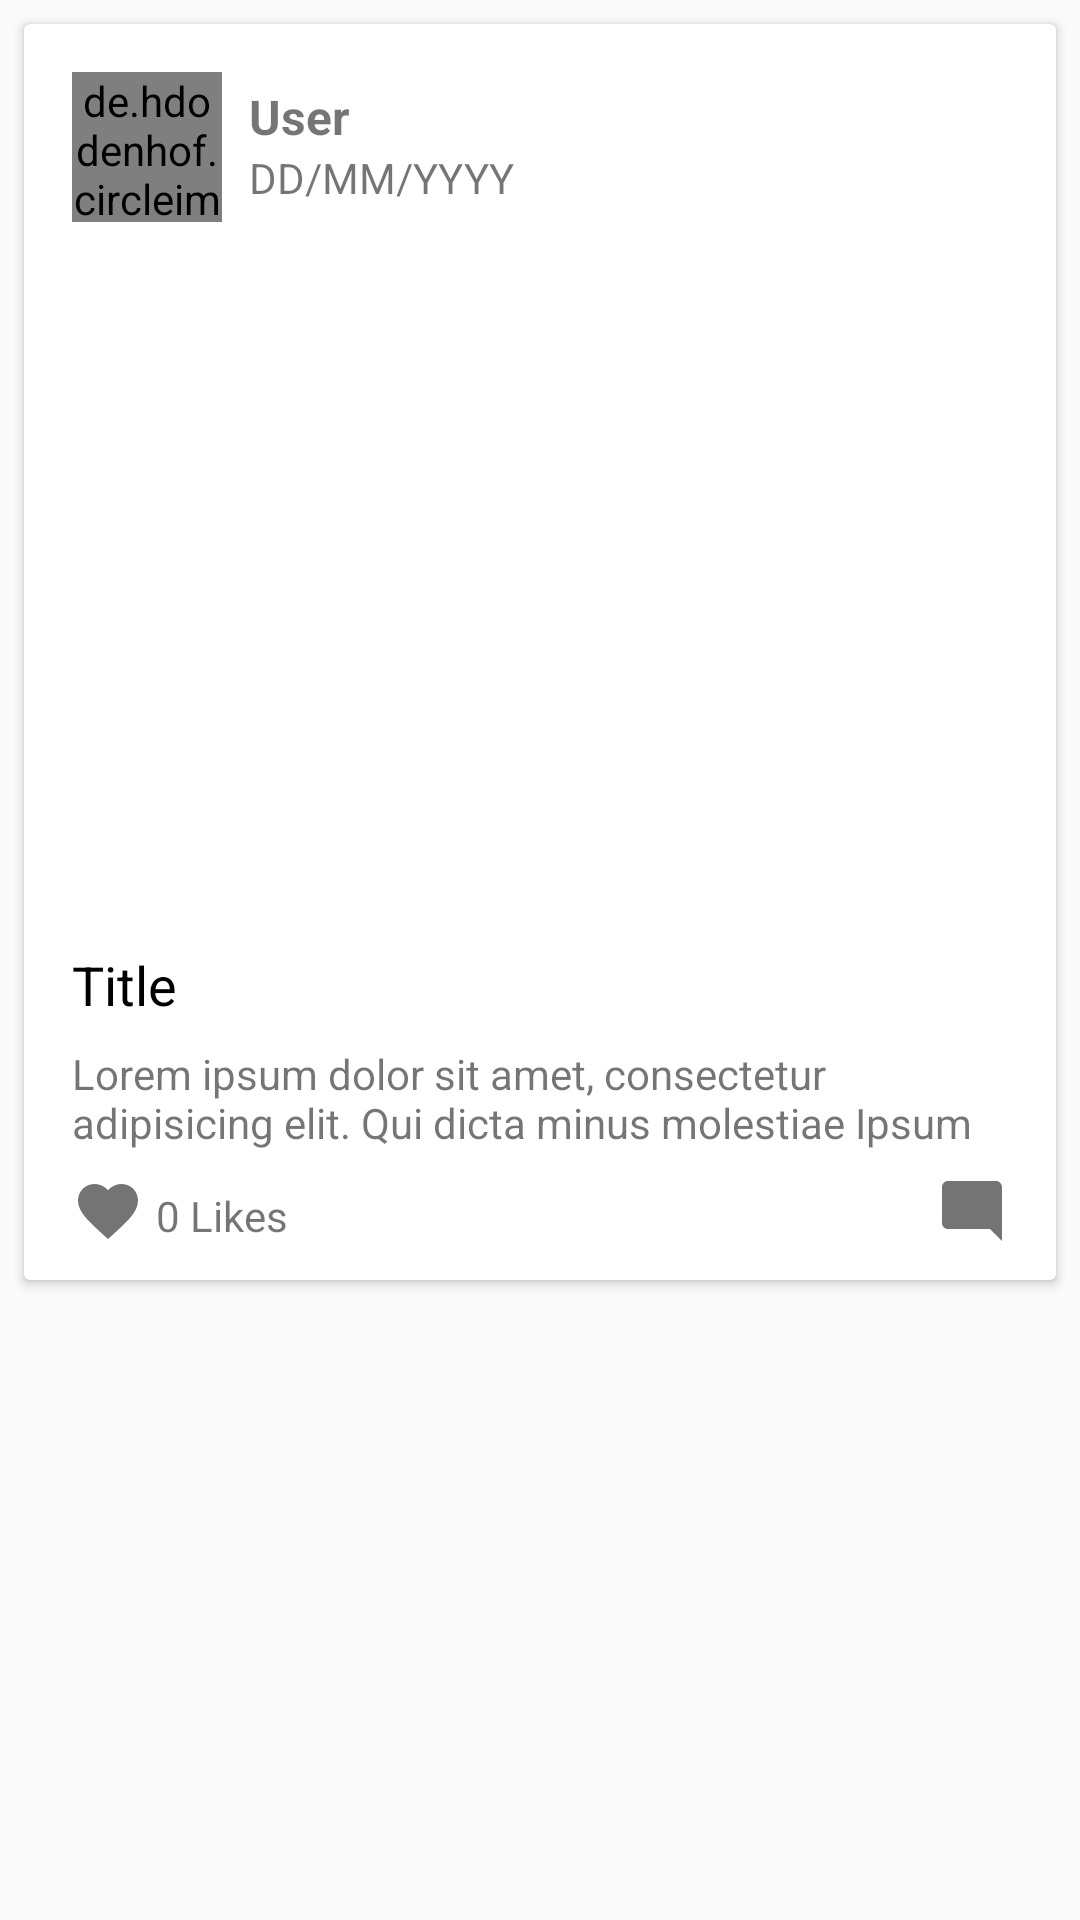

Point at icon controls on the screen. Image size 1080x1920, points as [x,y].
comment: [972,1211]
favorite: [108,1211]
